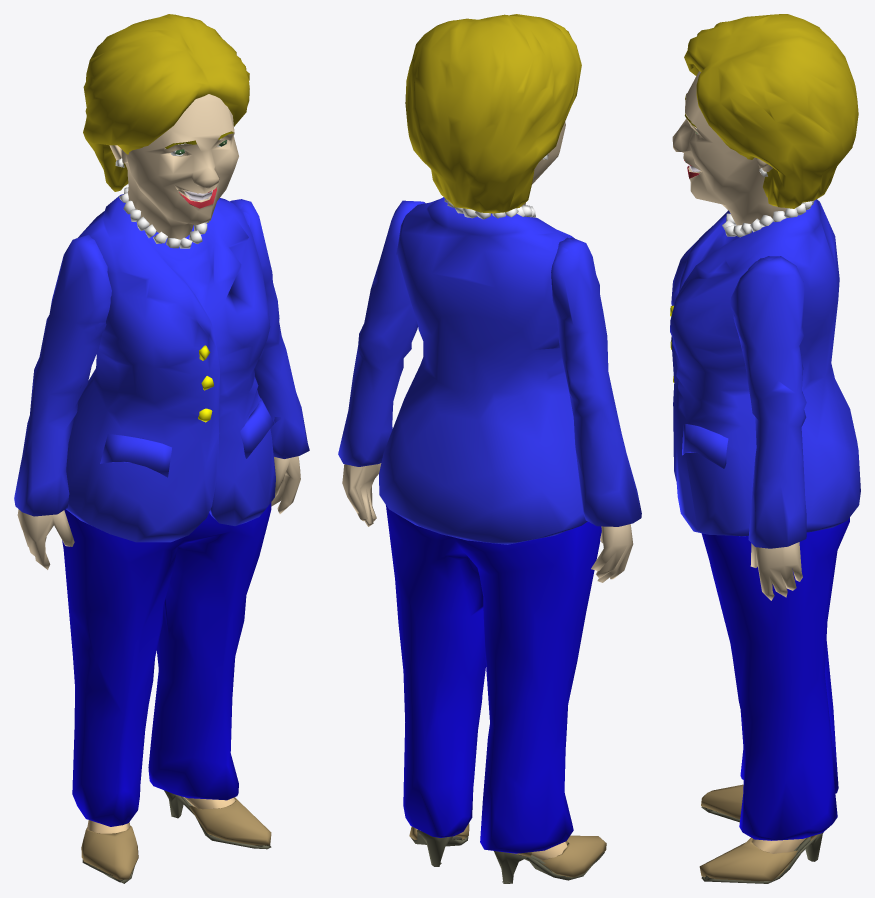
File: trillerylow.dae
3 renders of one model, left to right at view 1: azimuth 30°, elevation 25°; view 2: azimuth 150°, elevation 25°; view 3: azimuth 270°, elevation 25°, orthographic. The views are drawn at different scales.
Parts seen in each view (by area): view 1: hillary-action-figure; view 2: hillary-action-figure; view 3: hillary-action-figure.
Boxes of the visible parts, bbox=[...] form: hillary-action-figure: bbox=[14, 14, 309, 883]; hillary-action-figure: bbox=[338, 14, 641, 883]; hillary-action-figure: bbox=[670, 14, 860, 883].
Bounding box in the file's own units: 0.6531 × 0.3739 × 1.78.
